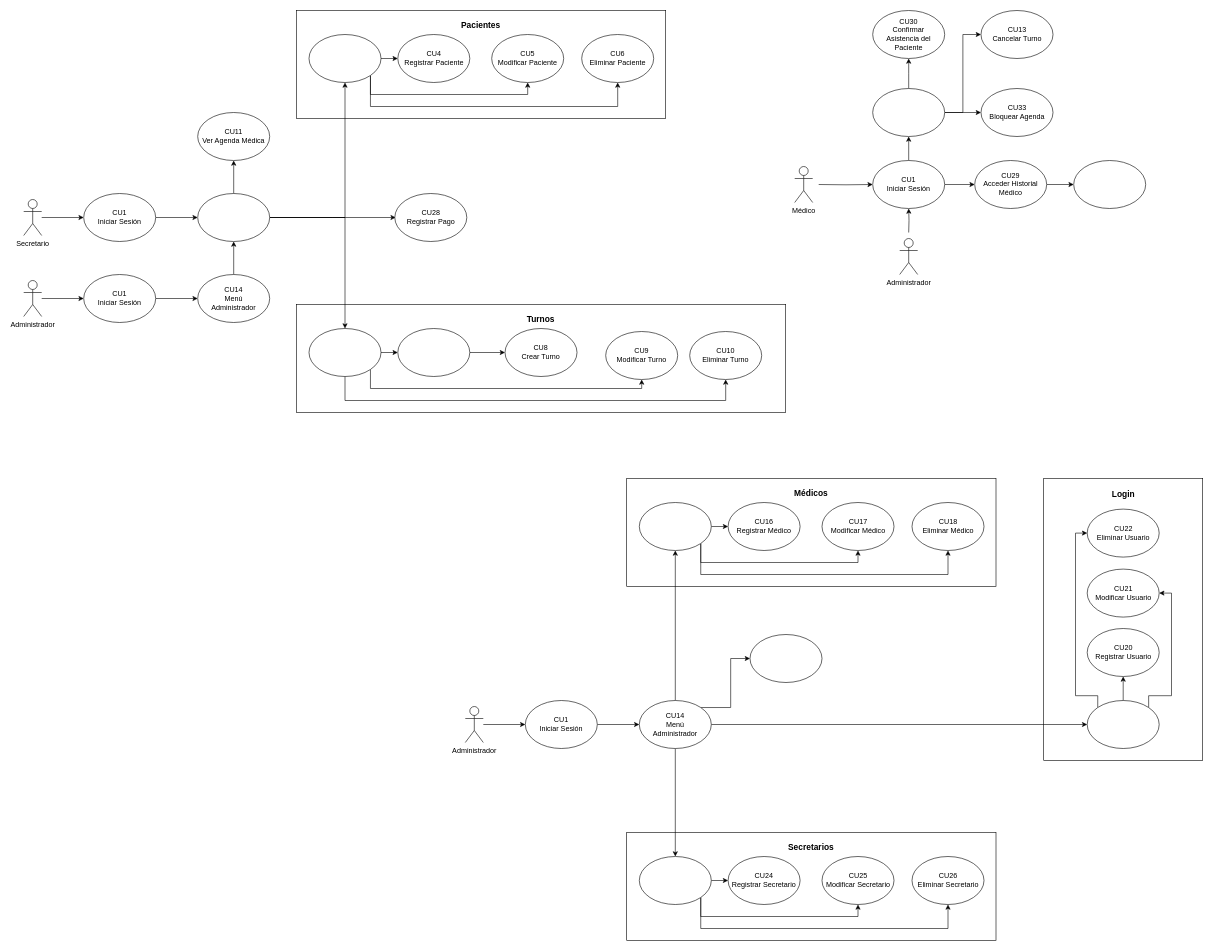
This 1213x951 diagram has some shape labels left out. Here are the shapes that lost their labels. From the top down, the centre of each, then its label:
At point 344,58: "CU3 Ver Pacientes".
At point 908,112: "CU12 Acceder Agenda".
At point 1109,184: "CU31 Actualizar Historial Médico".
At point 233,217: "CU2 Menú Secretario".
At point 344,352: "CU7 Ver Turnos".
At point 433,352: "CU27 Ver Disponibilidad".
At point 675,526: "CU15 Ver Médicos".
At point 785,658: "CU32 Crear Informe Mensual".
At point 1123,724: "CU19 Ver Usuarios".
At point 675,880: "CU23 Ver Secretarios".
